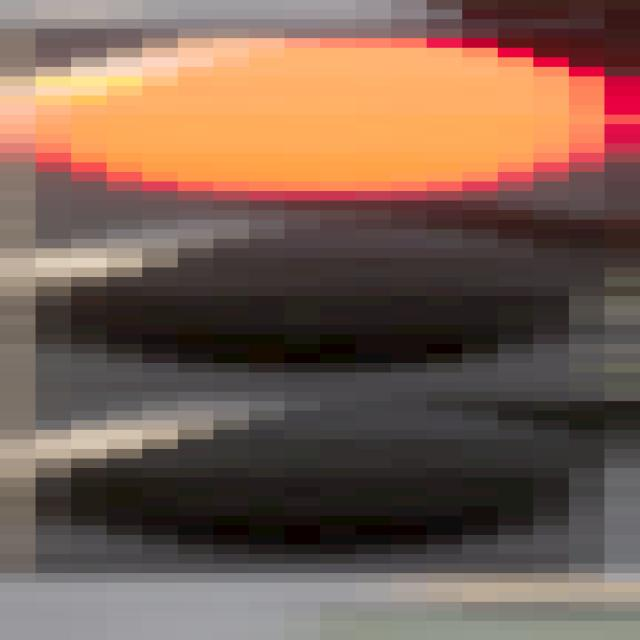red_light: (8, 36, 640, 552)
